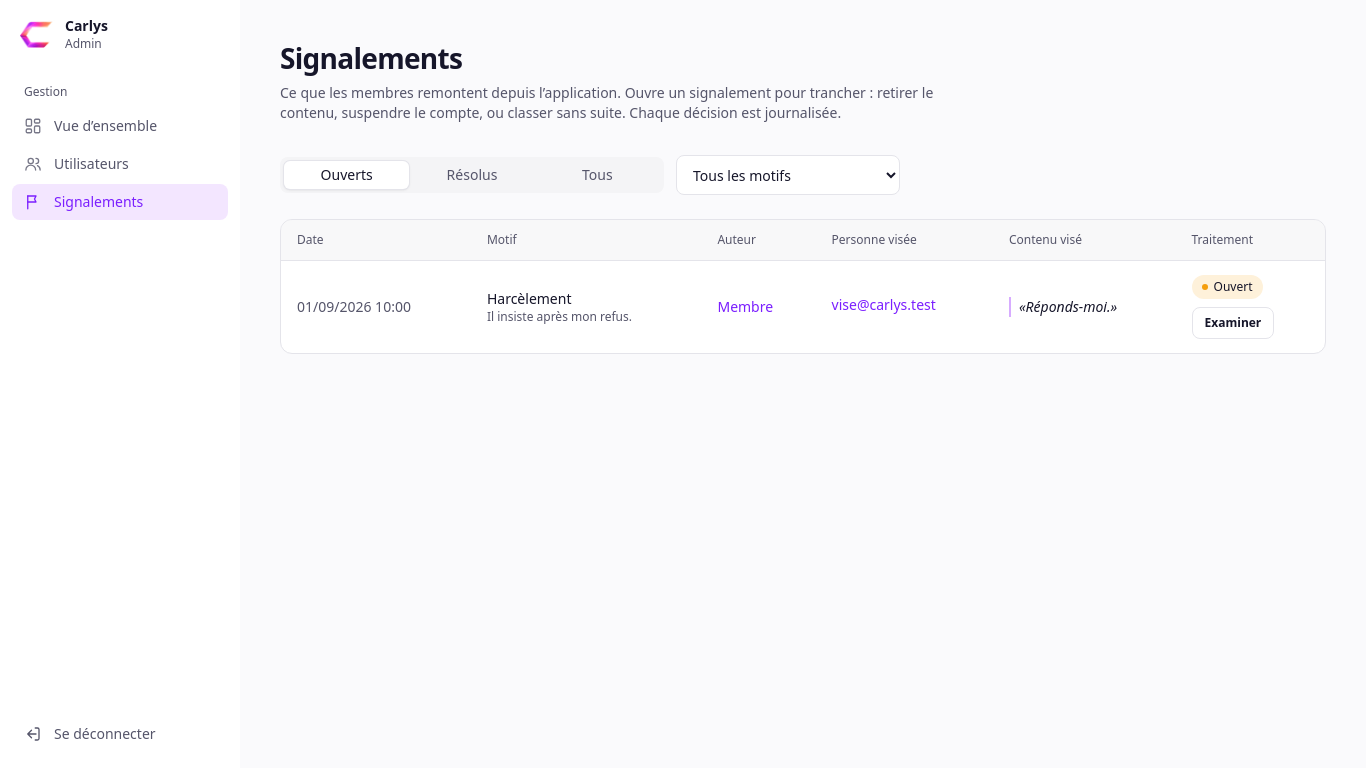
Scenario: Page Signalements › avec user:update, la suspension est proposée depuis la fiche
What coordinates should you click on to do the following:
click the button "Examiner"
I would click on:
 (1233, 323)
Its box is [1192,307,1274,339].
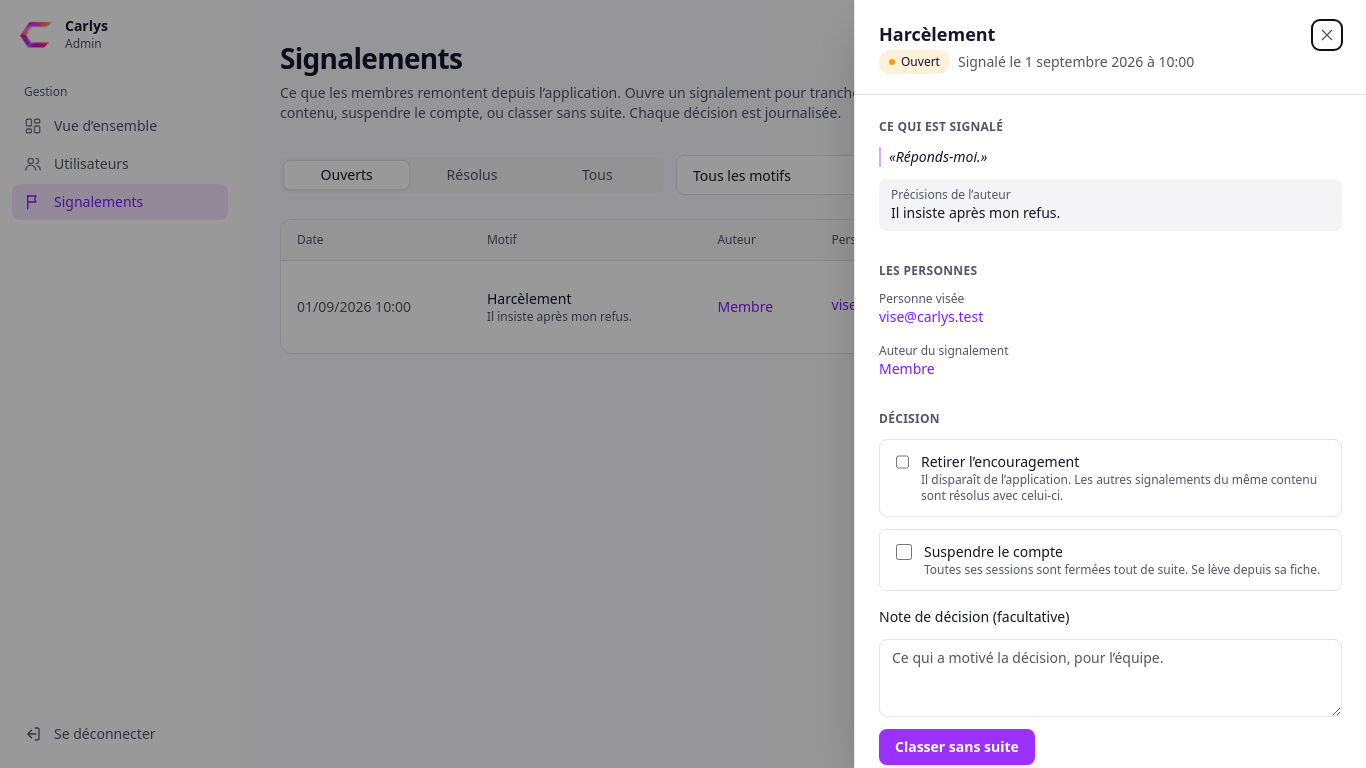
Expected: the checkbox labelled "Suspendre le compte" is enabled, [896,544,912,560]
